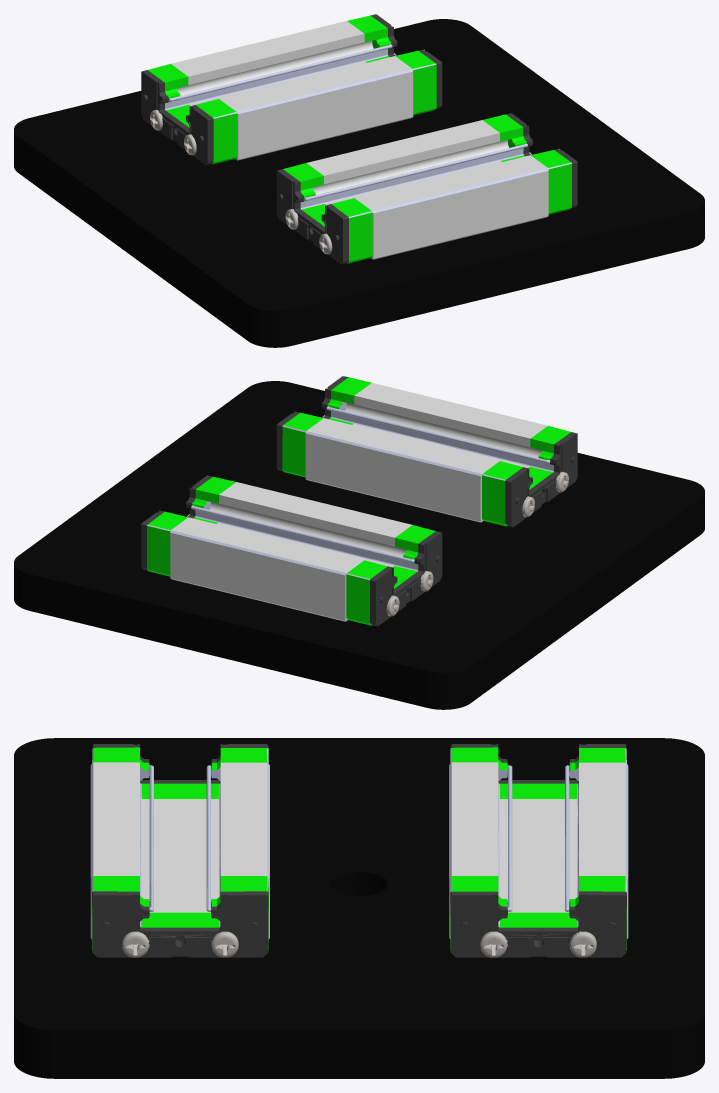
File: left_rotation.obj
The picture shows the model from 3 angles, top to bottom: view 1: azimuth 30°, elevation 25°; view 2: azimuth 150°, elevation 25°; view 3: azimuth 270°, elevation 25°; orthographic projection. The views are drawn at different scales.
Parts seen in each view (by area): view 1: mesh13.002; view 2: mesh13.002; view 3: mesh13.002.
Boxes of the visible parts, x1,y1,x2,y2 form: mesh13.002: [14, 14, 704, 347]; mesh13.002: [14, 376, 704, 709]; mesh13.002: [14, 738, 704, 1078].
Size of the model in its own units: 0.0772 by 0.014 by 0.0772.
